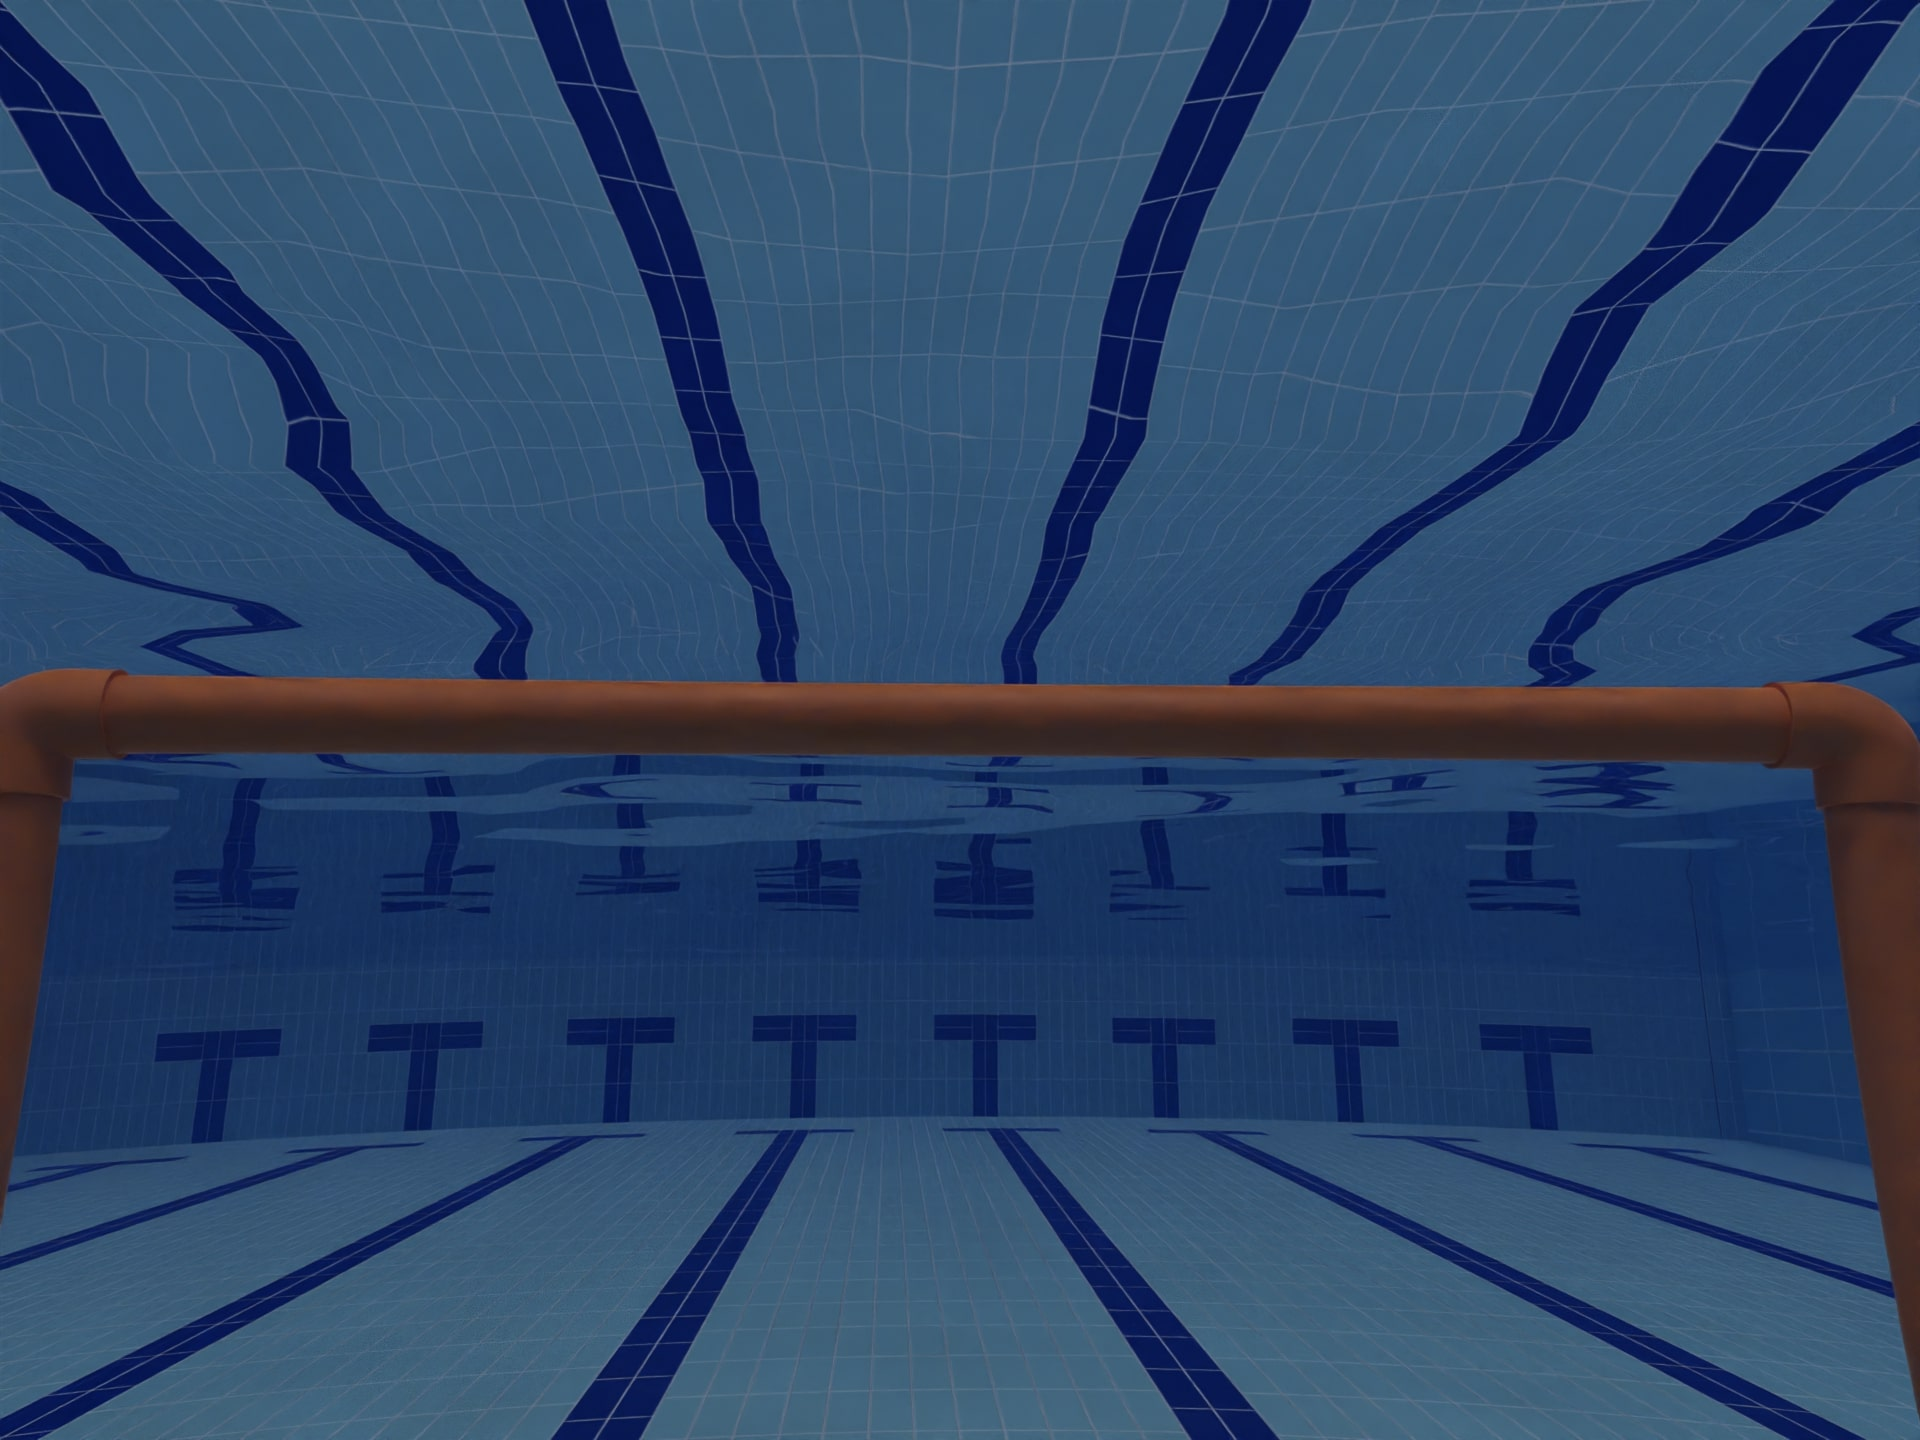gate: (17, 579, 1920, 1440)
